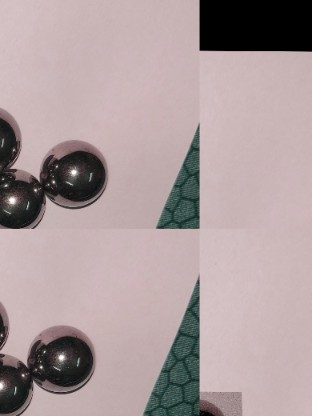ironball: (39, 133, 116, 208), (29, 320, 96, 396), (0, 346, 35, 414), (2, 169, 40, 229), (0, 105, 24, 173), (199, 391, 241, 415)
